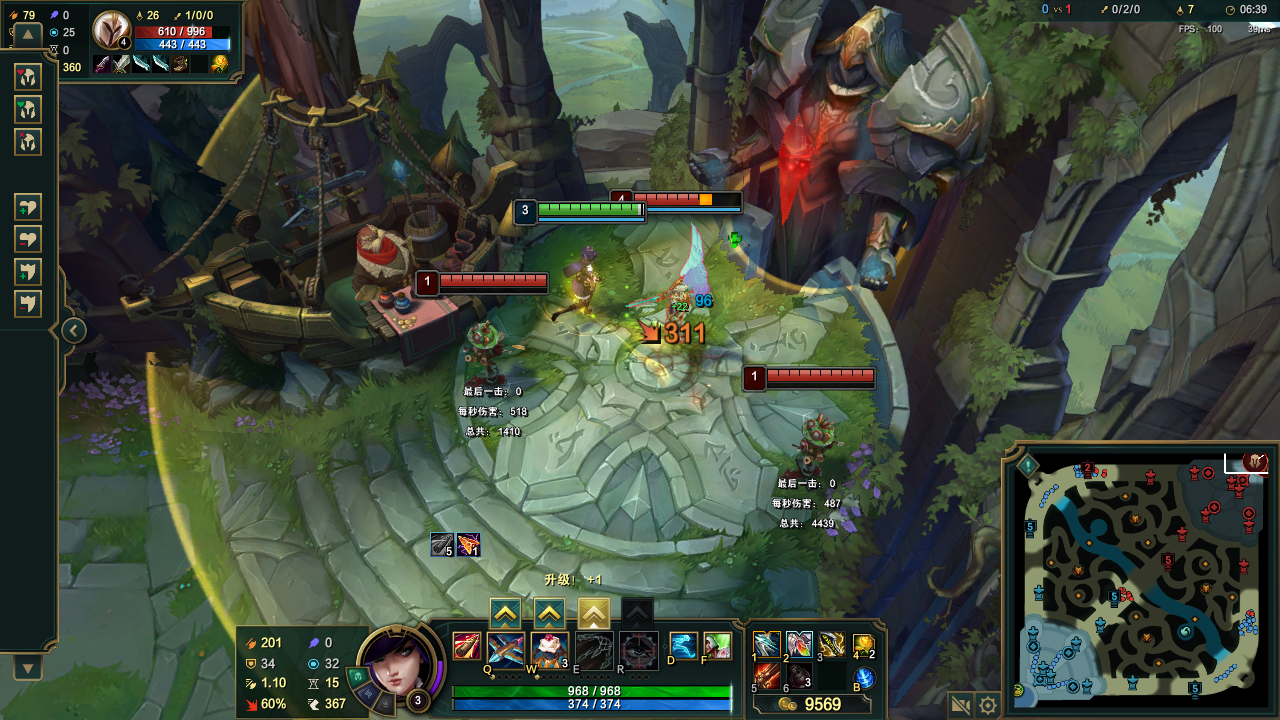DFYX: (636, 191, 752, 208), (764, 366, 879, 381), (440, 271, 550, 286)
